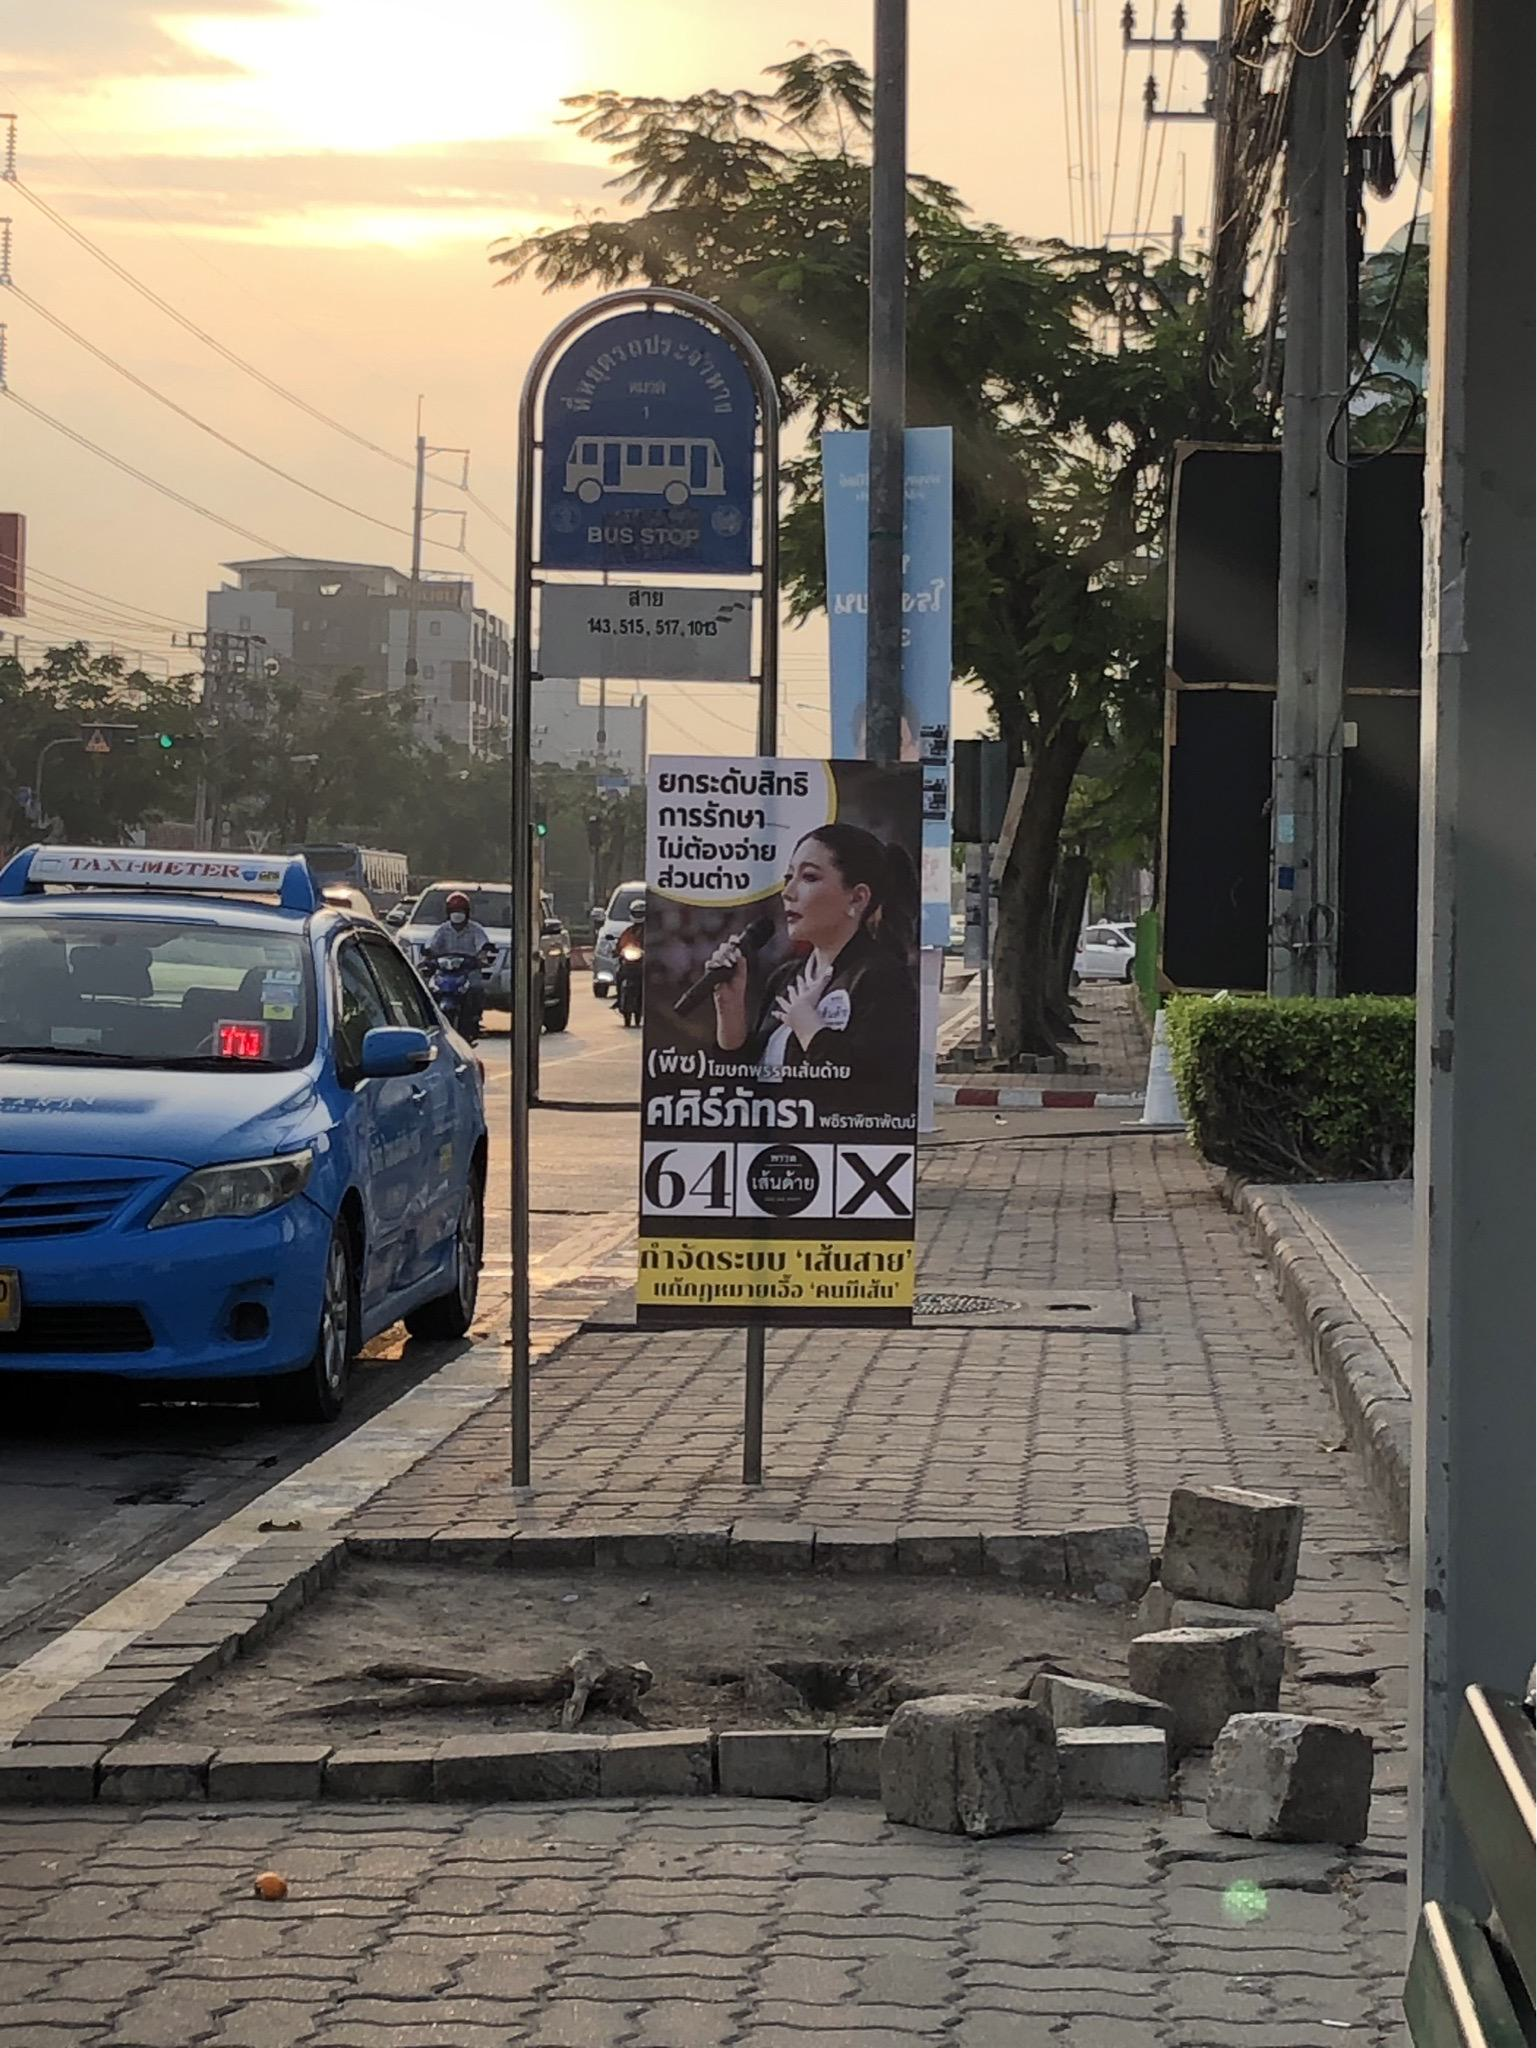Banner: (636, 754, 959, 1335)
